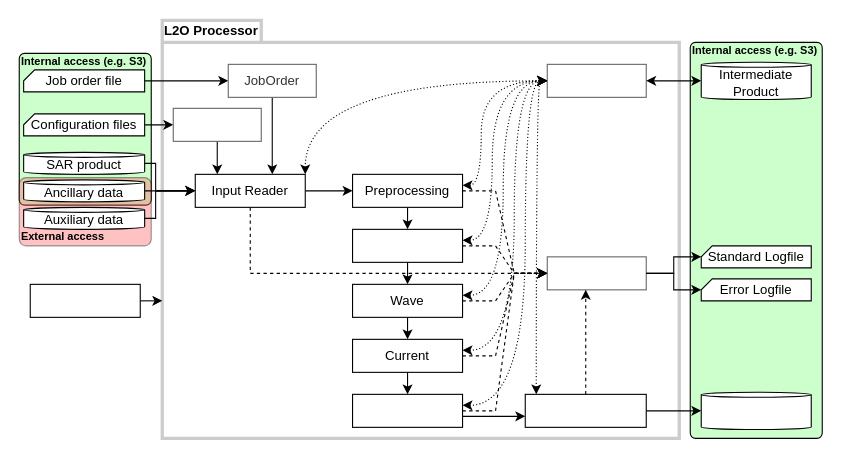
Image size: 842x459. Some labels were removed from this diagram. Each missing label, with the box of its shape:
Breakpointer: (546, 63, 646, 97)
Configuration: (172, 107, 261, 141)
Export Control Module: (29, 283, 140, 317)
Logger: (546, 256, 646, 290)
Output Writer: (524, 393, 646, 427)
Postprocessing: (351, 393, 463, 427)
ROSE-L OCN Product: (700, 391, 811, 429)
Wind: (351, 228, 463, 262)
